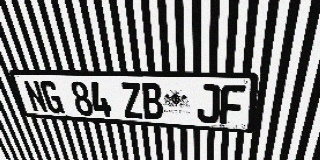4: (87, 81, 112, 117)
8: (69, 81, 95, 116)
B: (140, 83, 164, 120)
F: (219, 85, 246, 125)
G: (39, 80, 65, 114)
J: (197, 84, 220, 123)
N: (22, 80, 49, 113)
Z: (120, 82, 144, 119)
